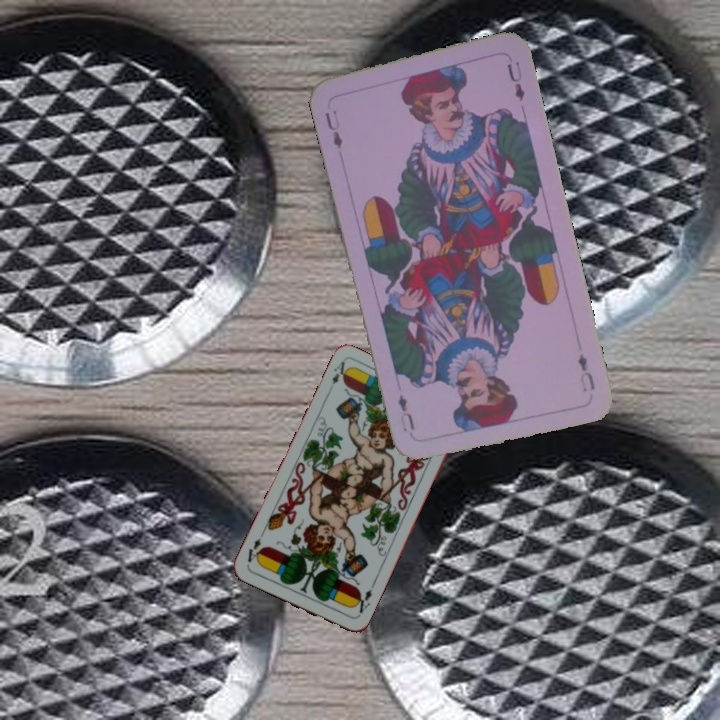EA: (324, 357, 352, 396), (349, 585, 375, 619)
EU: (320, 106, 345, 151), (574, 349, 598, 395)
